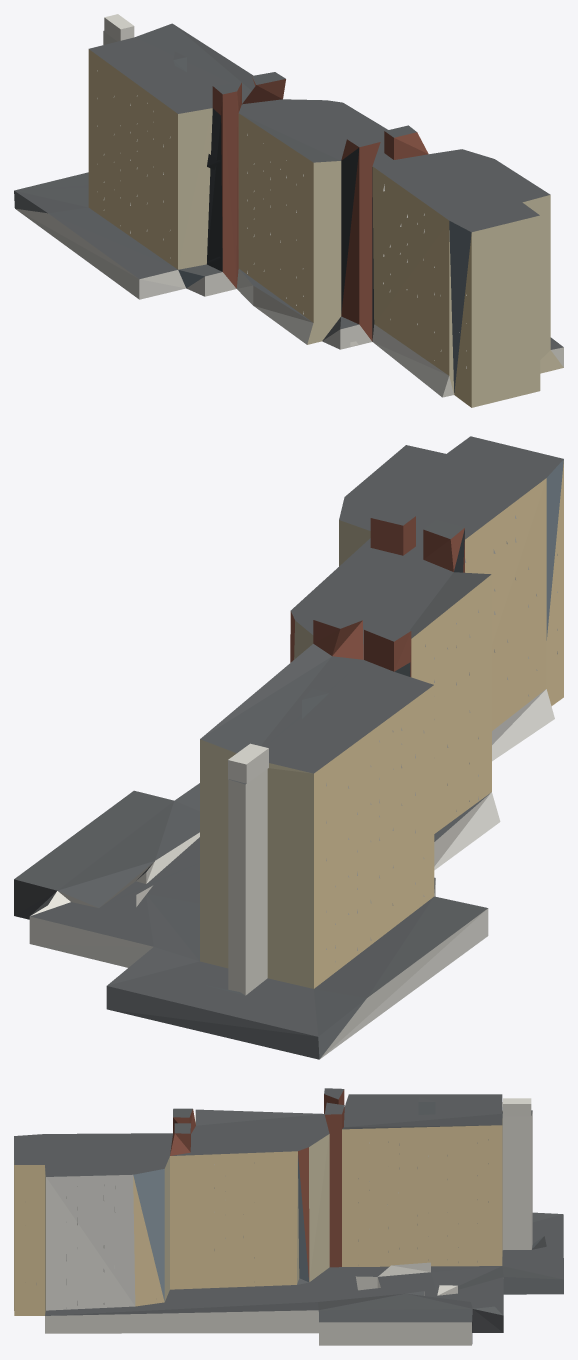
File: kramatplantsoen.lod2.glb
The picture shows the model from 3 angles, top to bottom: view 1: azimuth 30°, elevation 25°; view 2: azimuth 150°, elevation 25°; view 3: azimuth 270°, elevation 25°; orthographic projection. The views are drawn at different scales.
Visible parts, largest first — view 1: lod2; view 2: lod2; view 3: lod2.
Boxes of the visible parts, box(x1,y1,x2,y2) form: lod2: box(14, 14, 563, 407); lod2: box(14, 436, 563, 1059); lod2: box(14, 1088, 563, 1345).
Size of the model in its own units: 60.22 by 40.92 by 120.
